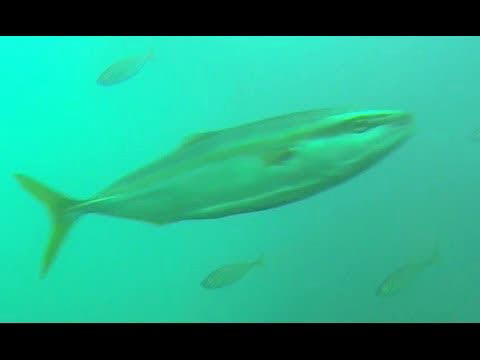hamati: (4, 94, 434, 279)
